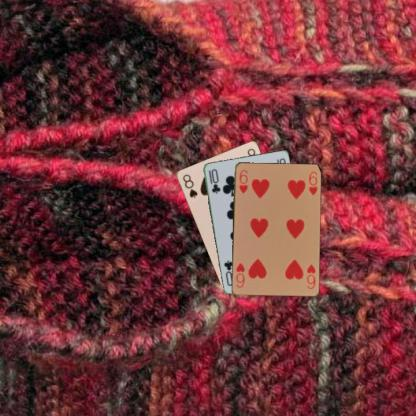10c: (206, 166, 221, 195)
6h: (234, 167, 249, 195), (304, 261, 317, 290)
8s: (180, 172, 198, 199)
